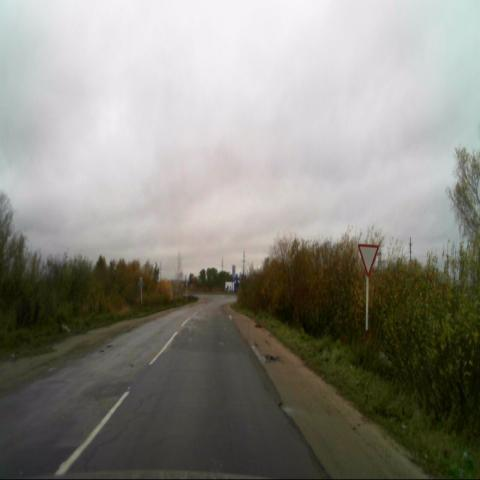2_4: (357, 244, 379, 278)
